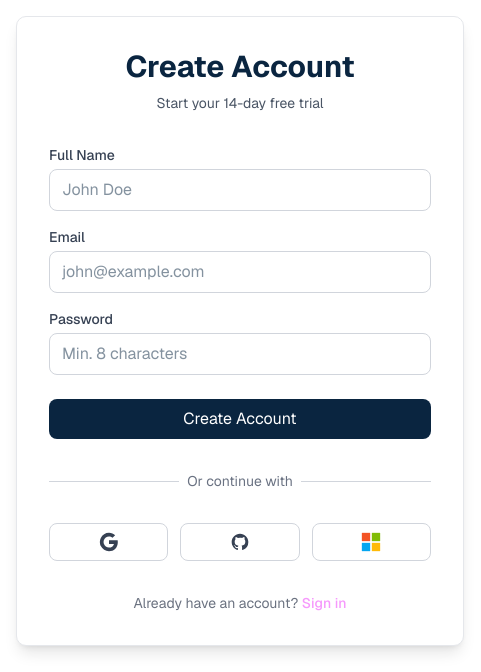
Test case: RegisterPage Component › should show loading state during registration
In the field labelled "Full Name": coordinates (240, 190) top-left (49, 169), bottom-right (431, 211), type "Test User"
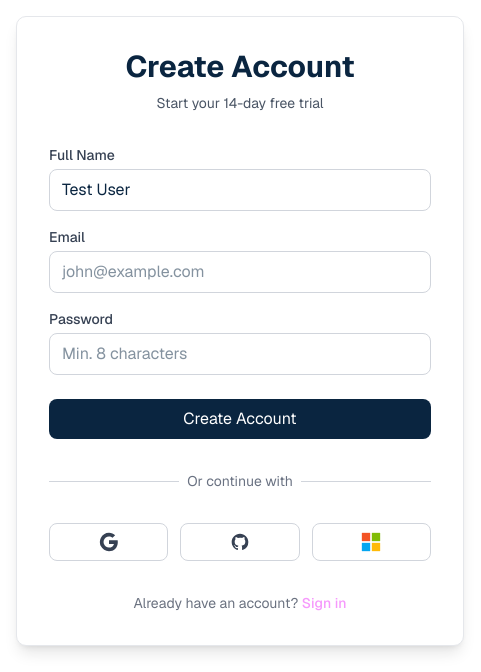
In the field labelled "Email": coordinates (240, 272) top-left (49, 251), bottom-right (431, 293), type "test@example.com"
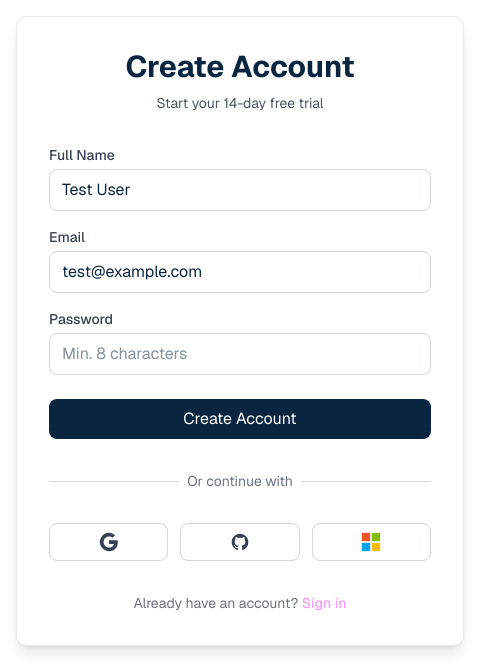
In the password field labelled "Password": coordinates (240, 354) top-left (49, 333), bottom-right (431, 375), type "password123"
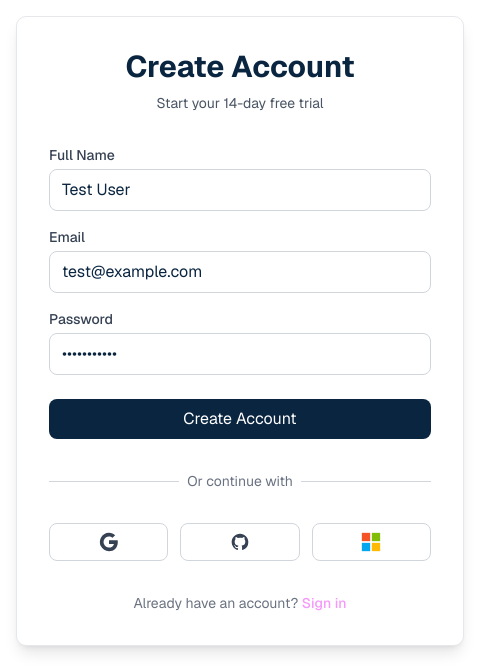
Click the button "Create Account": coordinates (240, 419) top-left (49, 399), bottom-right (431, 439)
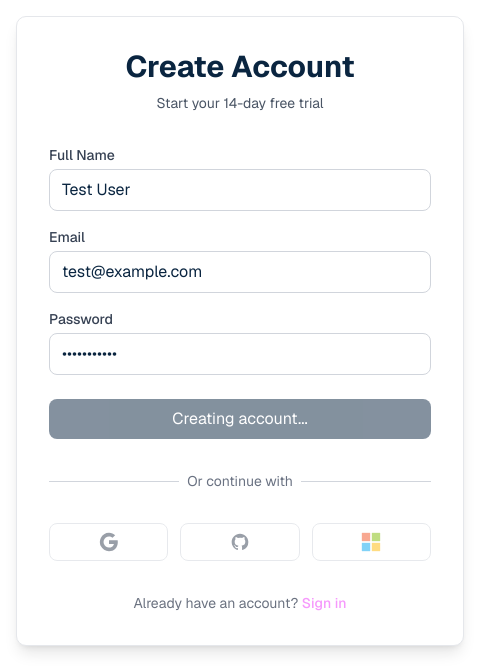
Check: the button "Creating account..." is disabled, box top-left (49, 399), bottom-right (431, 439)
